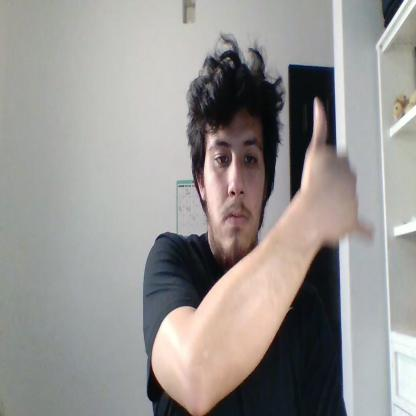Y: (301, 98, 374, 244)
